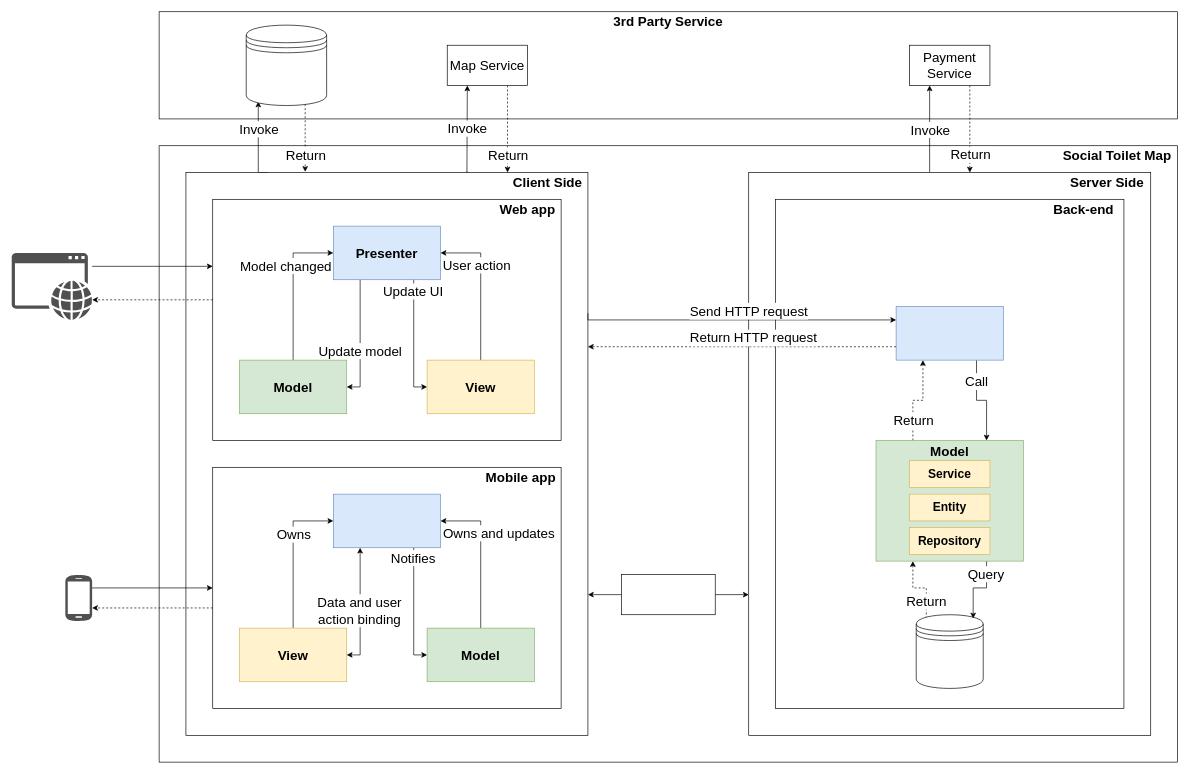
The diagram is 1189 pixels wide and 774 high, and some of its shapes have lost their labels. Each missing label, with the box of its shape:
Controller (REST API): (895, 306, 1003, 360)
Database: (916, 614, 983, 688)
Storage Service: (246, 24, 327, 106)
View Model: (333, 493, 441, 548)
Web socket: (621, 574, 715, 615)
